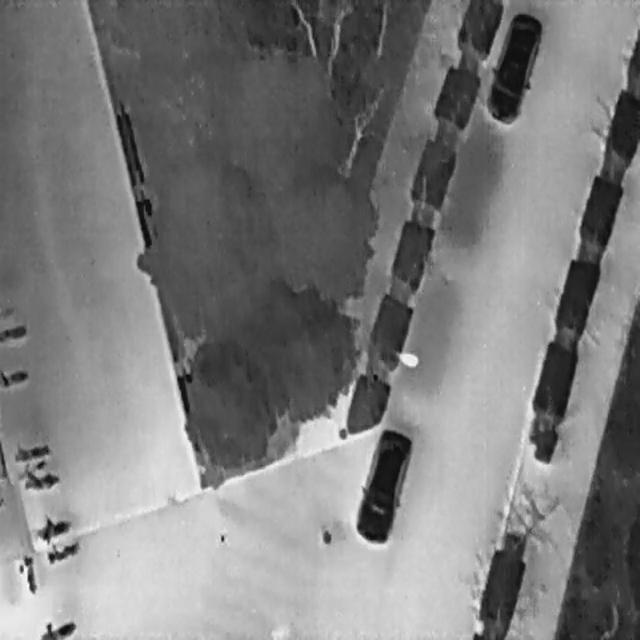Bicycle: (29, 506, 72, 546), (40, 532, 80, 566), (11, 452, 48, 483), (11, 438, 51, 462), (19, 552, 40, 596), (21, 469, 59, 491), (39, 619, 76, 636), (0, 320, 26, 342), (0, 366, 28, 386)
Car: (479, 0, 548, 131), (348, 421, 417, 550)
